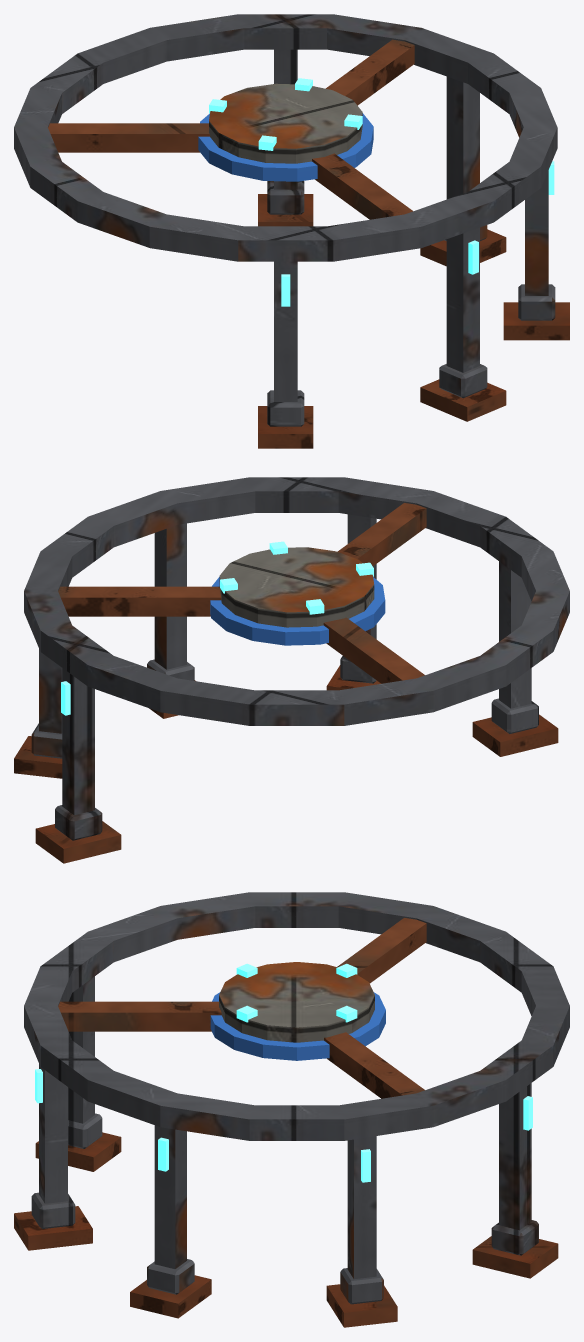
Rendered from zsupport_assimilateur.glb.
3 renders of one model, top to bottom at view 1: azimuth 30°, elevation 25°; view 2: azimuth 150°, elevation 25°; view 3: azimuth 270°, elevation 25°, orthographic.
Parts seen in each view (by area): view 1: zsupport_assimilateur; view 2: zsupport_assimilateur; view 3: zsupport_assimilateur.
Boxes of the visible parts, x1,y1,x2,y2 form: zsupport_assimilateur: (14, 14, 569, 448); zsupport_assimilateur: (14, 477, 569, 863); zsupport_assimilateur: (14, 892, 569, 1327).
Bounding box in the file's own units: 0.7441 × 0.326 × 0.7497.
Materials: 5 (3 with a texture image).
